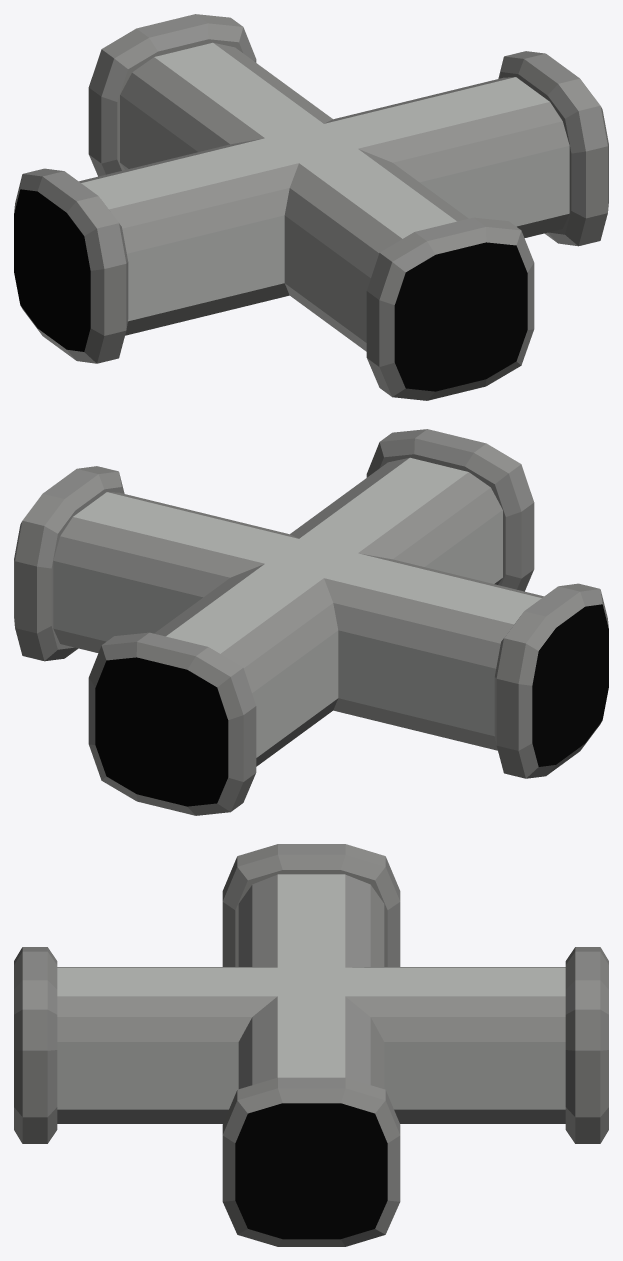
The model's file is PIPE_4SIDES.fbx.
3 renders of one model, top to bottom at view 1: azimuth 30°, elevation 25°; view 2: azimuth 150°, elevation 25°; view 3: azimuth 270°, elevation 25°, orthographic.
Parts seen in each view (by area): view 1: pCube7; view 2: pCube7; view 3: pCube7.
Part boxes in pixels (x1,y1,x2,y2): pCube7: (14,14,608,400); pCube7: (14,429,608,815); pCube7: (14,844,608,1246).
Bounding box in the file's own units: 8.63 × 2.54 × 8.63.
